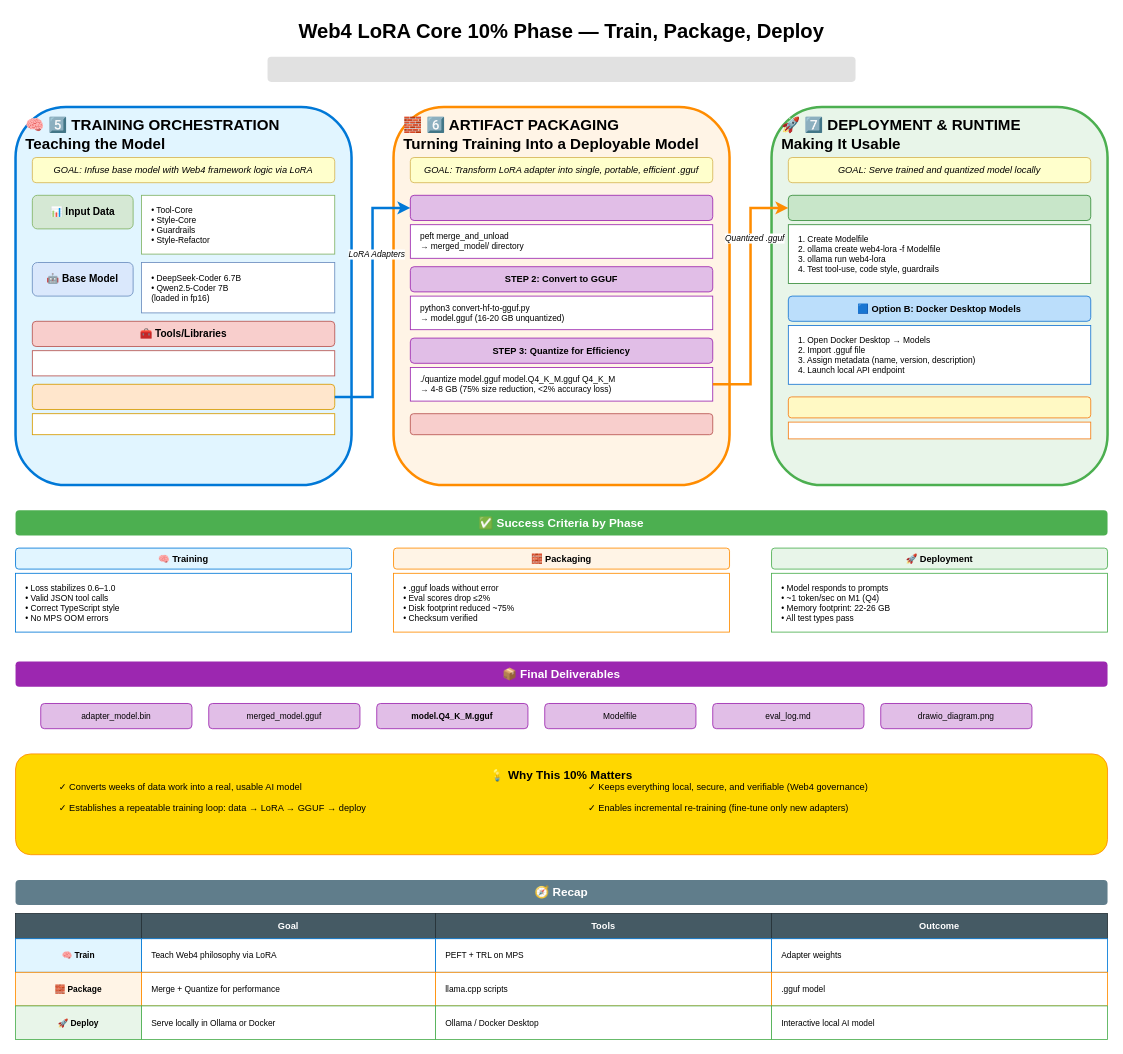
Some shapes in this 1123 by 1054 pixel diagram are drawn without their labels. Each missing label, with the centre of its shape:
"adapter_model.bin • adapter_config.json • trainer_state.json" goes at (x=183, y=424).
"PyTorch (MPS) • Transformers • PEFT • TRL • Accelerate" goes at (x=183, y=363).
"Step" goes at (x=78, y=926).
"STEP 1: Merge Adapters" goes at (x=561, y=207).
"The 10% hands-on phase: Converting data preparation into a deployed model" goes at (x=561, y=68).
"Tool-JSON • Style • Guardrails • Latency • Memory" goes at (x=939, y=430).
"📦 Output: LoRA Adapter Weights" goes at (x=183, y=396).
"🟩 Option A: Ollama (Recommended M1)" goes at (x=939, y=207).
"🧪 Post-Deployment Tests" goes at (x=939, y=407).
"🧰 llama.cpp • Python 3.10+ • safetensors" goes at (x=561, y=424).
